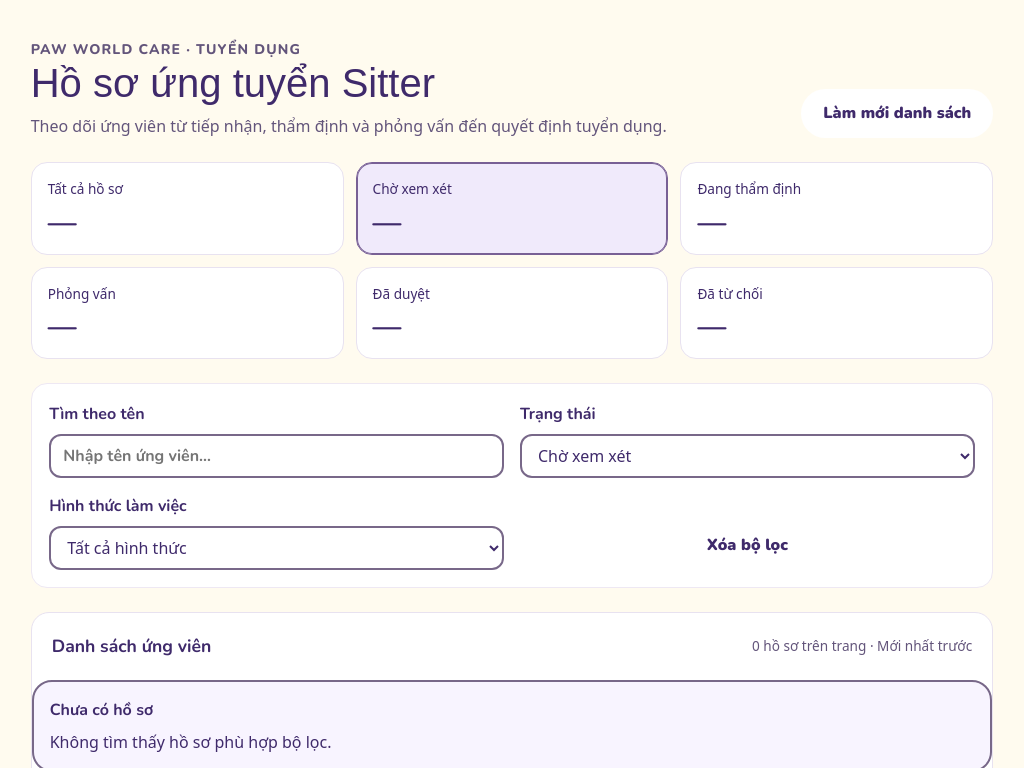
Scenario: Admin sitter application list › shows loading, empty and populated states without exposing an unmasked contact
The width and height of the screenshot is (1024, 768).
Expected: the text "Không tìm thấy hồ sơ phù hợp bộ lọc." is shown, [50, 731, 331, 753]
What coordinates should you click on to do the following:
click the button "Làm mới danh sách"
I would click on:
 (897, 113)
Its box is [801, 89, 993, 138].
(page scrolled)
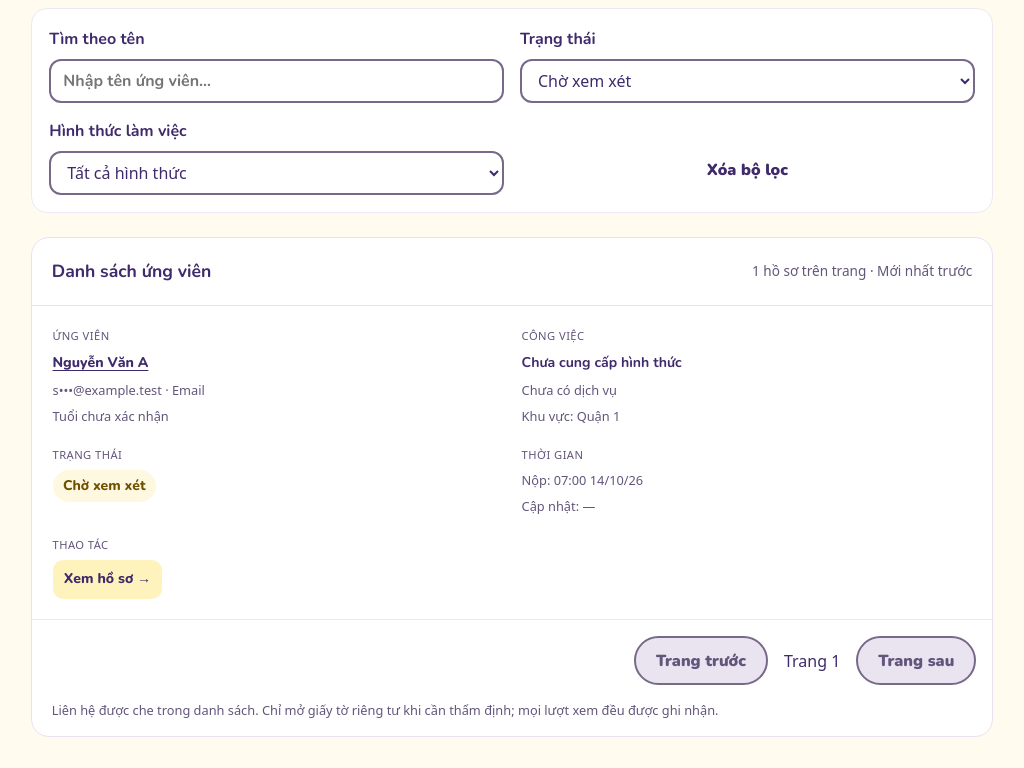
Expected: the text "s•••@example.test · Email" is shown, [52, 381, 205, 399]
